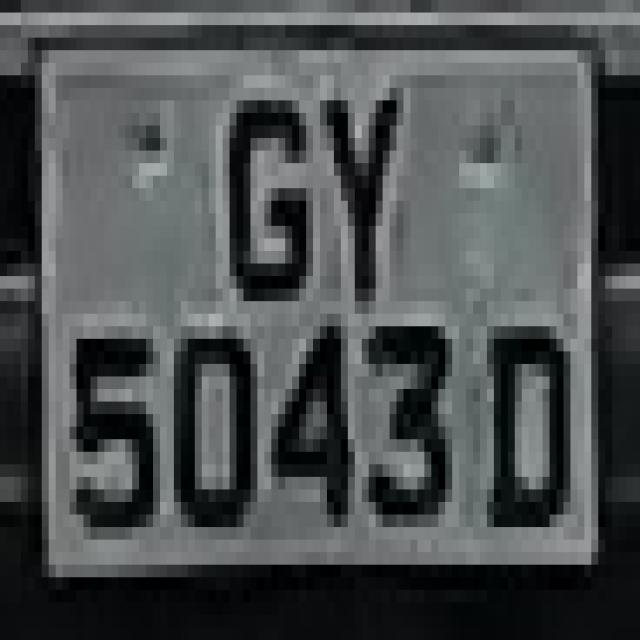0: (146, 301, 278, 565)
3: (355, 276, 452, 552)
4: (264, 251, 355, 540)
5: (56, 289, 160, 552)
D: (473, 302, 577, 602)
G: (209, 51, 306, 352)
Y: (306, 38, 417, 314)
